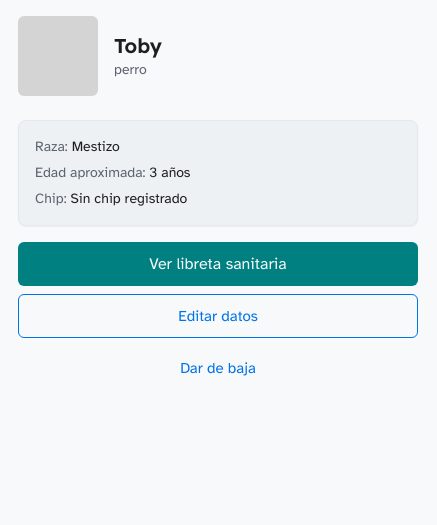
Test case: PaginaDetalleMascota (app/mascotas/[id]) › permite editar el nombre y guarda los cambios
Check: the heading "Toby" is shown, box left=114, top=32, right=162, bottom=60
Click the button "Editar datos" at {"x": 218, "y": 316}, box left=18, top=294, right=418, bottom=338
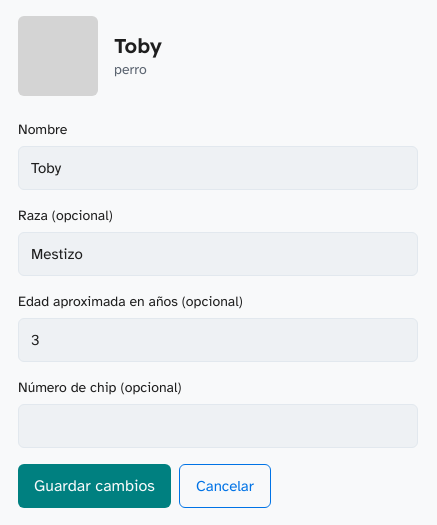
Replace the text in the field labelled "Nombre" with "Toby II" at {"x": 218, "y": 168}, box left=18, top=146, right=418, bottom=190
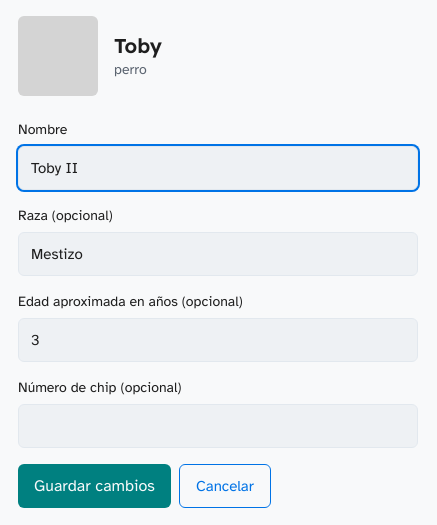
Click the button "Guardar cambios" at {"x": 94, "y": 486}, box left=18, top=464, right=171, bottom=508
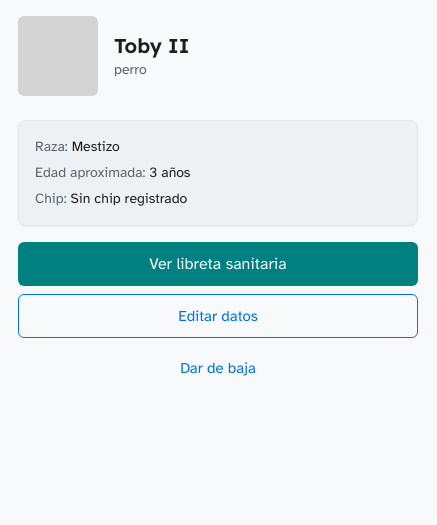
Check: the heading "Toby II" is shown, box left=114, top=32, right=189, bottom=60
